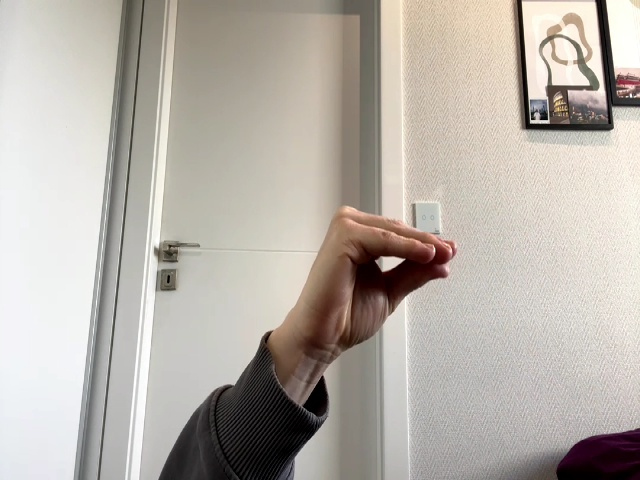E: (294, 206, 456, 365)
